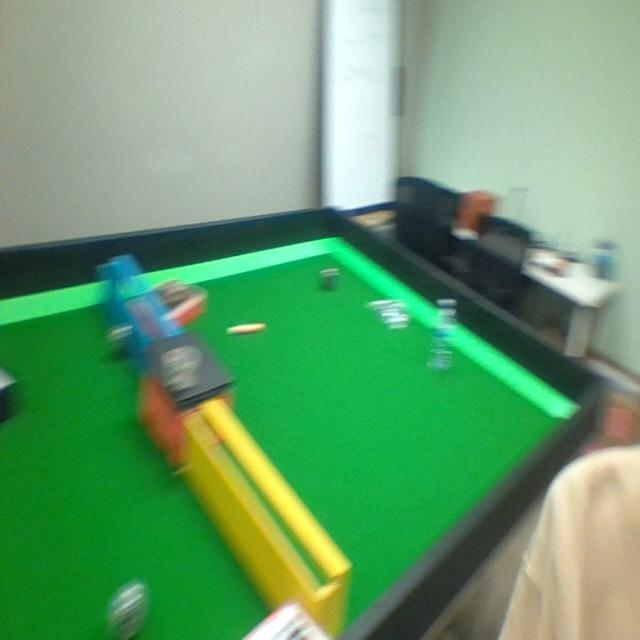chair: (386, 172, 460, 284), (465, 206, 527, 322)
